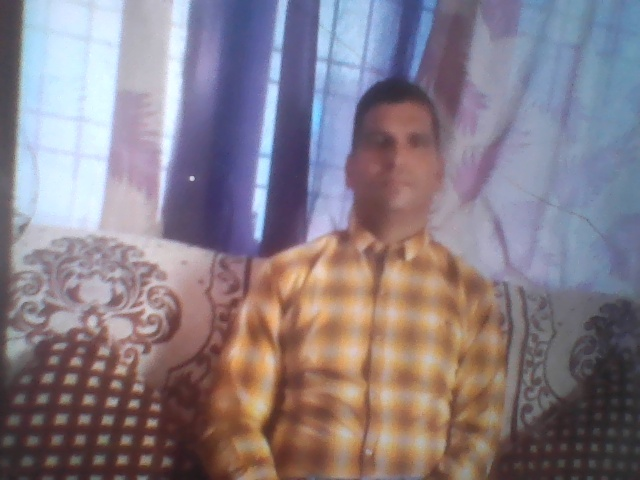fake: (340, 51, 466, 229)
